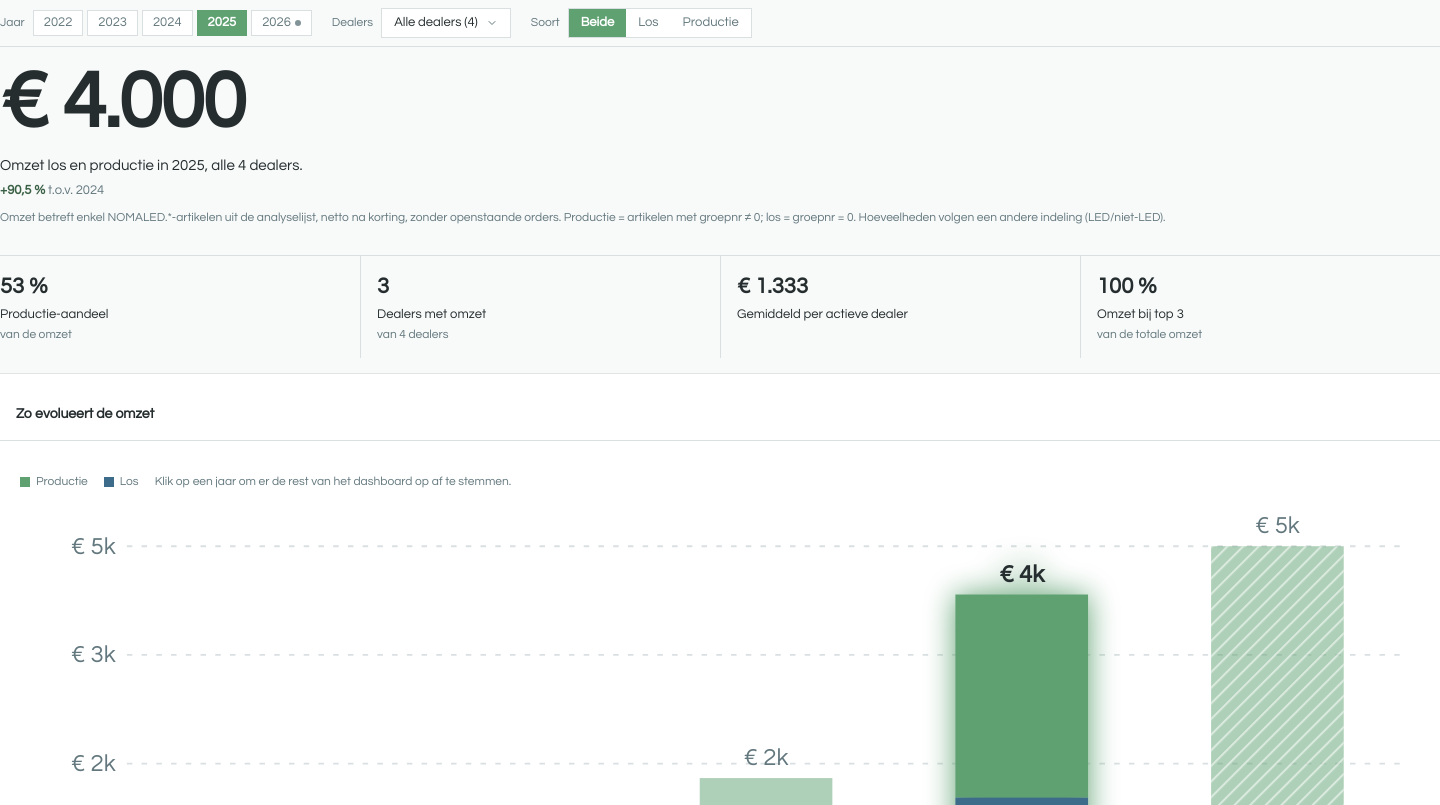
Test case: OmzetanalyseDashboard › renders sections for per-dealer data and opens the drawer on row click
This screenshot has width=1440, height=805.
Check: the text "Zo evolueert de omzet" is shown, box [16,404,154,424]
Click the button "2024".
click(167, 23)  # box [142,10,193,36]
(page scrolled)
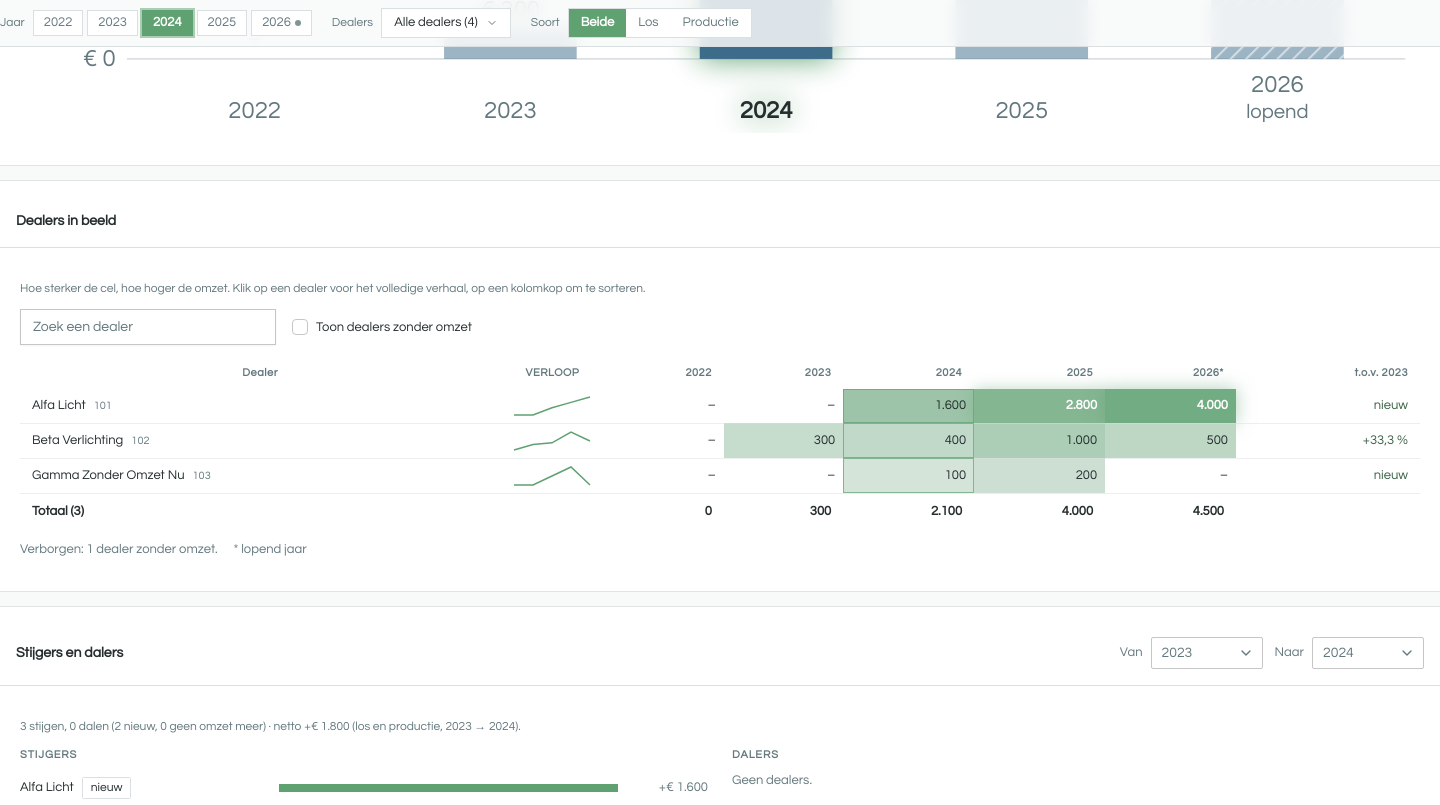
Click the row with test id "dealer-row" that starts with "Alfa Licht".
click(720, 406)  # box [20,389,1420,423]
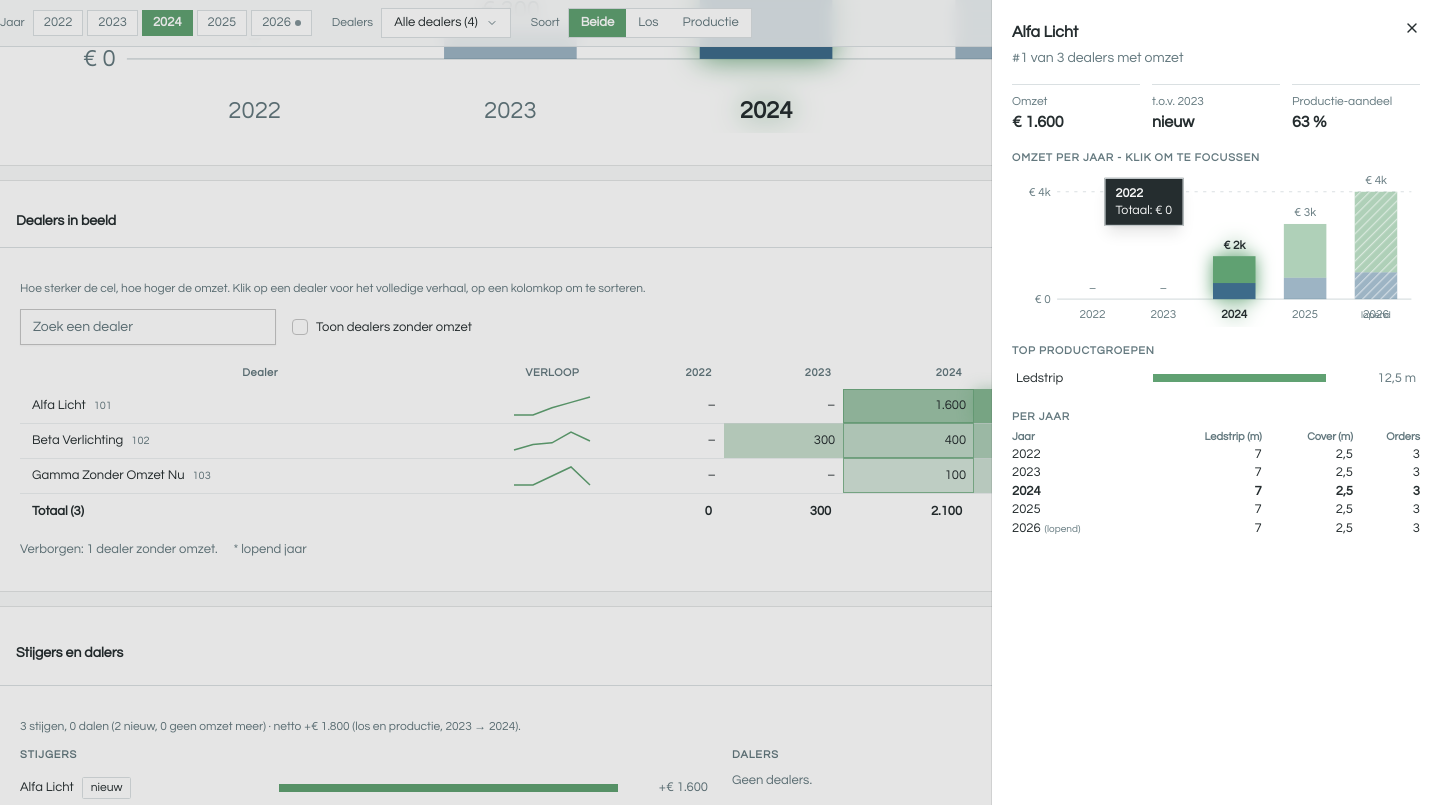
Check: the text "#1 van 3 dealers met omzet" is shown, box [1012,51,1184,65]
